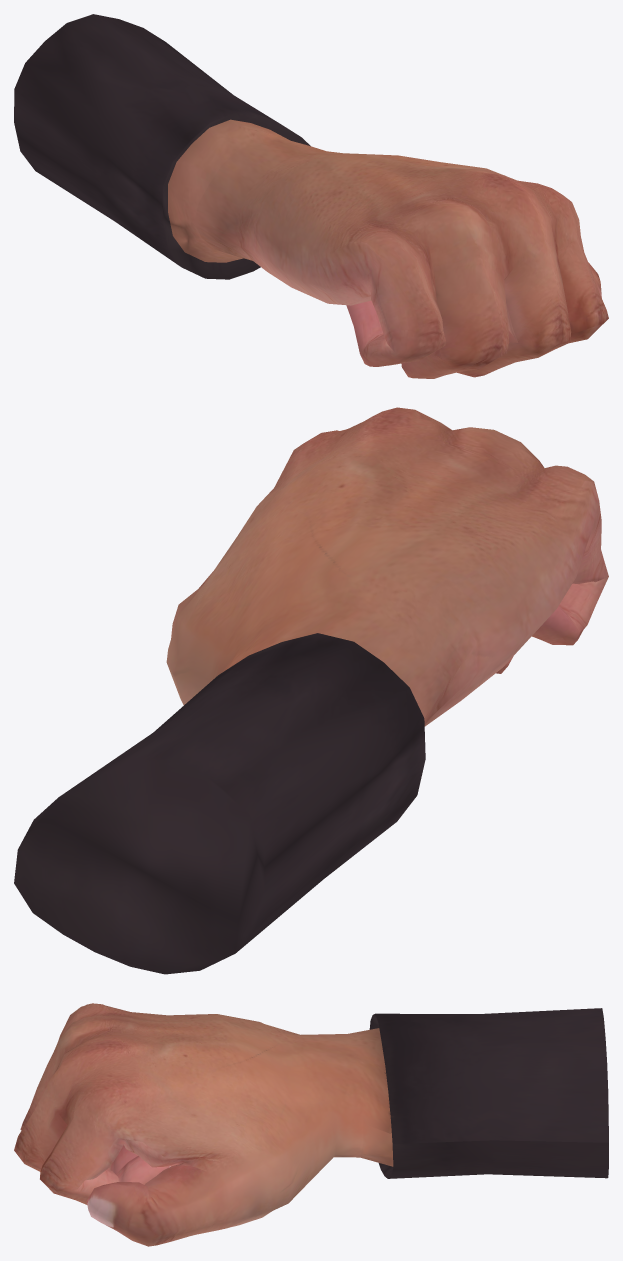
The model's file is fist.glb.
3 views of the same model, one above another, from view 1: azimuth 30°, elevation 25°; view 2: azimuth 150°, elevation 25°; view 3: azimuth 270°, elevation 25° (orthographic). The views are drawn at different scales.
Visible parts, largest first — view 1: fist; view 2: fist; view 3: fist.
Part boxes in pixels (<box>): fist: <box>14,14,608,378</box>; fist: <box>14,407,608,974</box>; fist: <box>14,1003,608,1246</box>.
Bounding box in the file's own units: 0.1923 × 0.1104 × 0.3693.
1 material, 1 textured.
